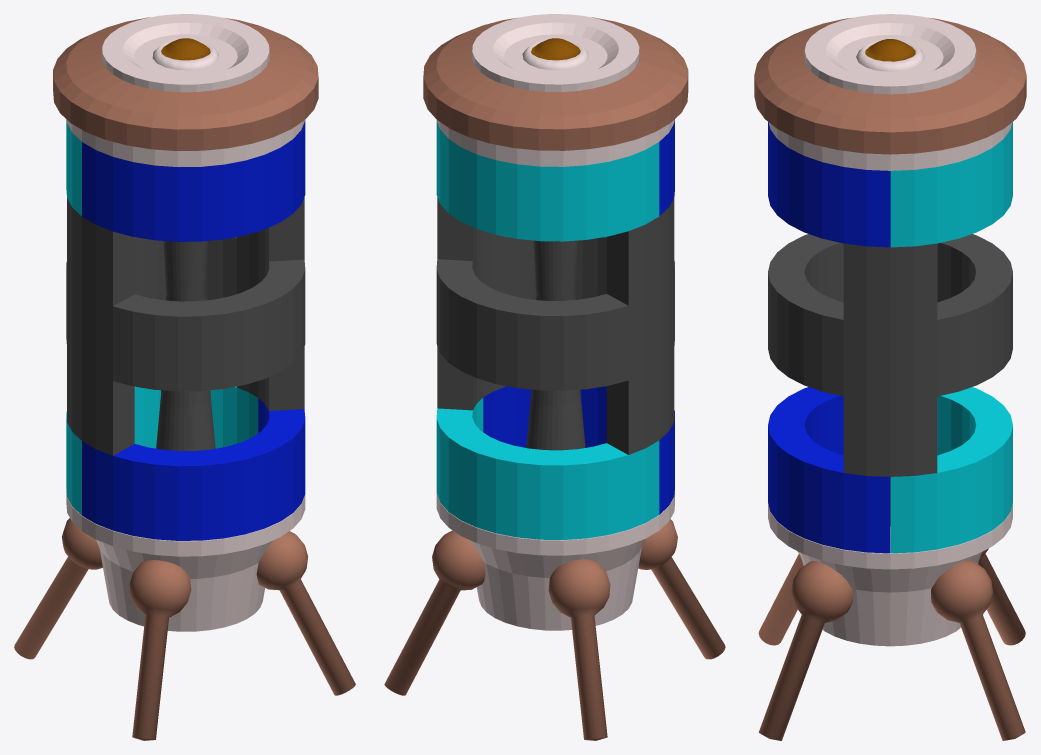
File: SatelliteShield.fbx
The picture shows the model from 3 angles, left to right: view 1: azimuth 30°, elevation 25°; view 2: azimuth 150°, elevation 25°; view 3: azimuth 270°, elevation 25°; orthographic projection. The views are drawn at different scales.
Visible parts, largest first — view 1: Circle.001; view 2: Circle.001; view 3: Circle.001.
Part boxes in pixels (x1,y1,x2,y2): Circle.001: (14, 14, 355, 740); Circle.001: (384, 14, 725, 740); Circle.001: (754, 14, 1026, 740).
Bounding box in the file's own units: 3.29 × 8.68 × 3.29.
